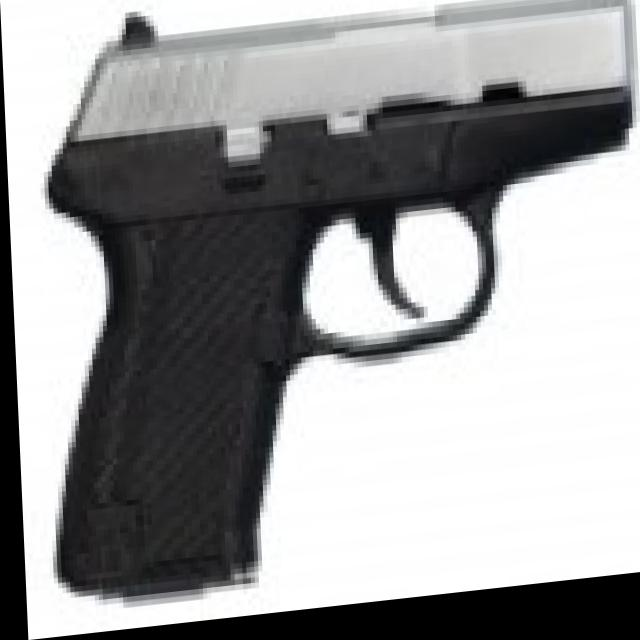handgun: (37, 0, 640, 594)
